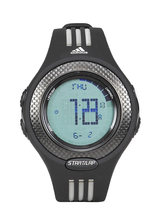watch: (13, 19, 142, 206)
